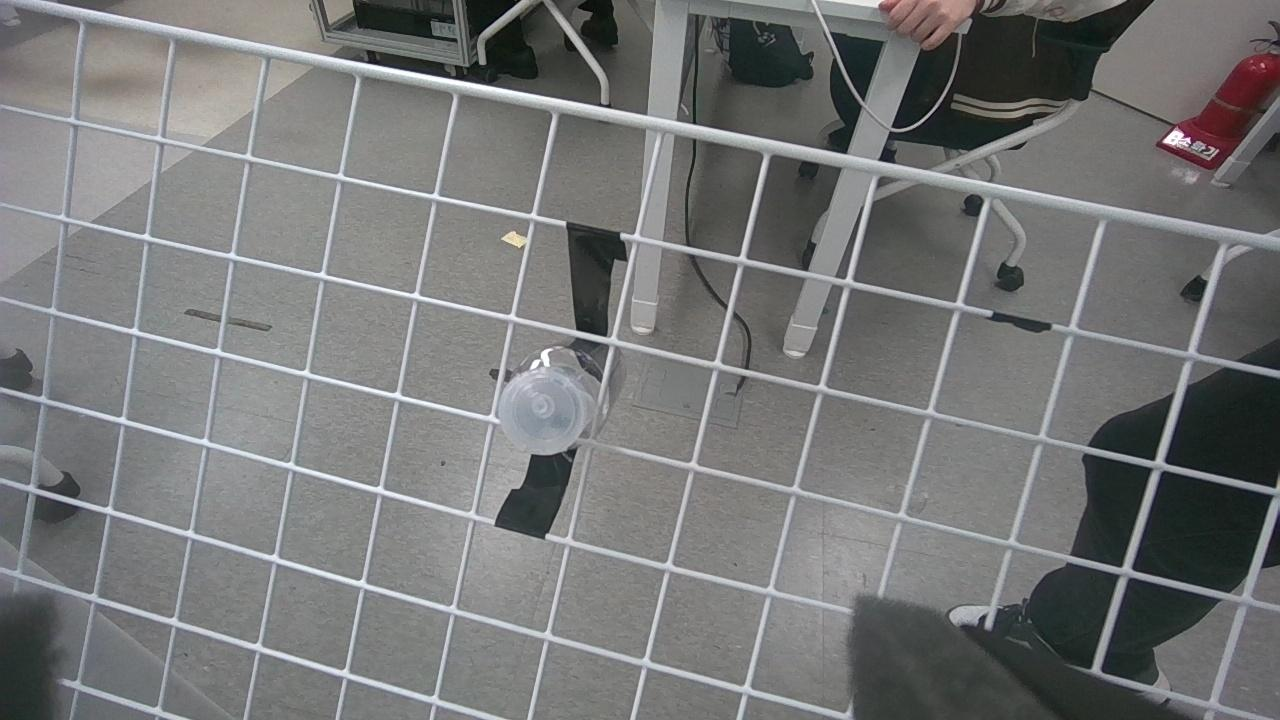Cap: (495, 366, 590, 459)
